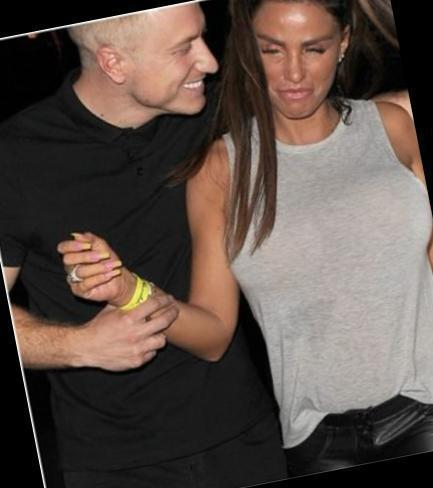Drunk: (250, 4, 342, 122), (124, 17, 218, 116)
